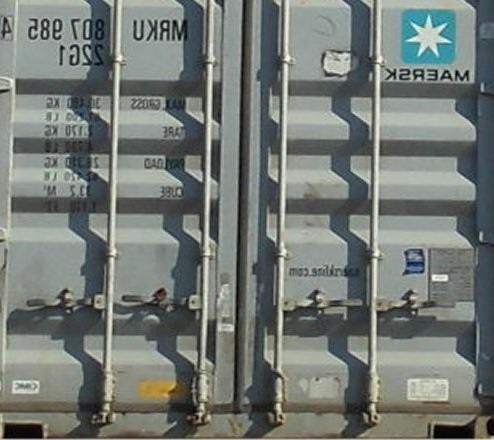container_door: (1, 4, 483, 435)
